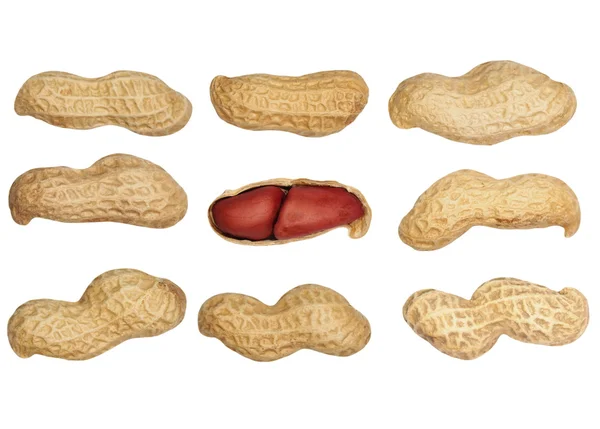kacang2: (1, 255, 194, 370), (381, 43, 585, 150), (388, 157, 594, 260), (384, 270, 600, 362), (193, 274, 380, 376), (1, 143, 193, 237), (8, 57, 200, 141), (207, 47, 374, 143)
